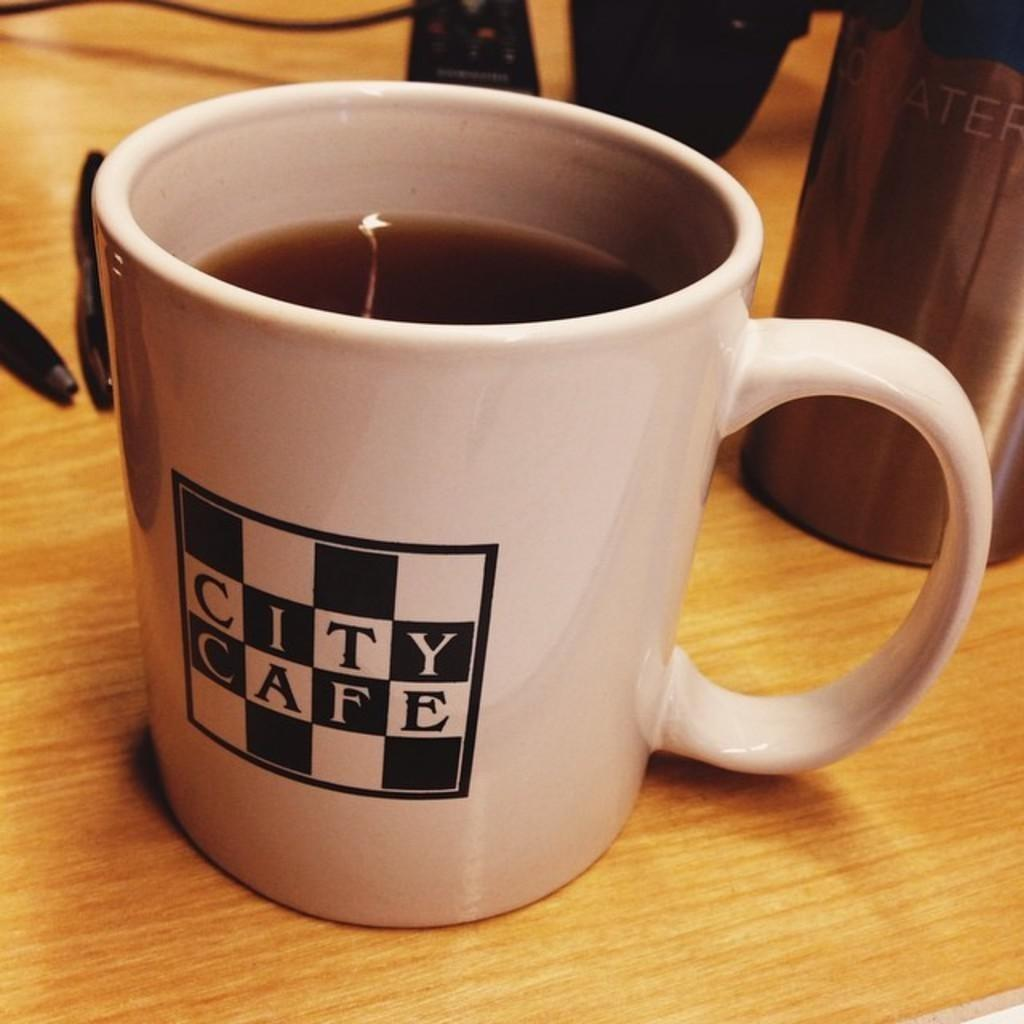cup-handle: (91, 73, 993, 934)
